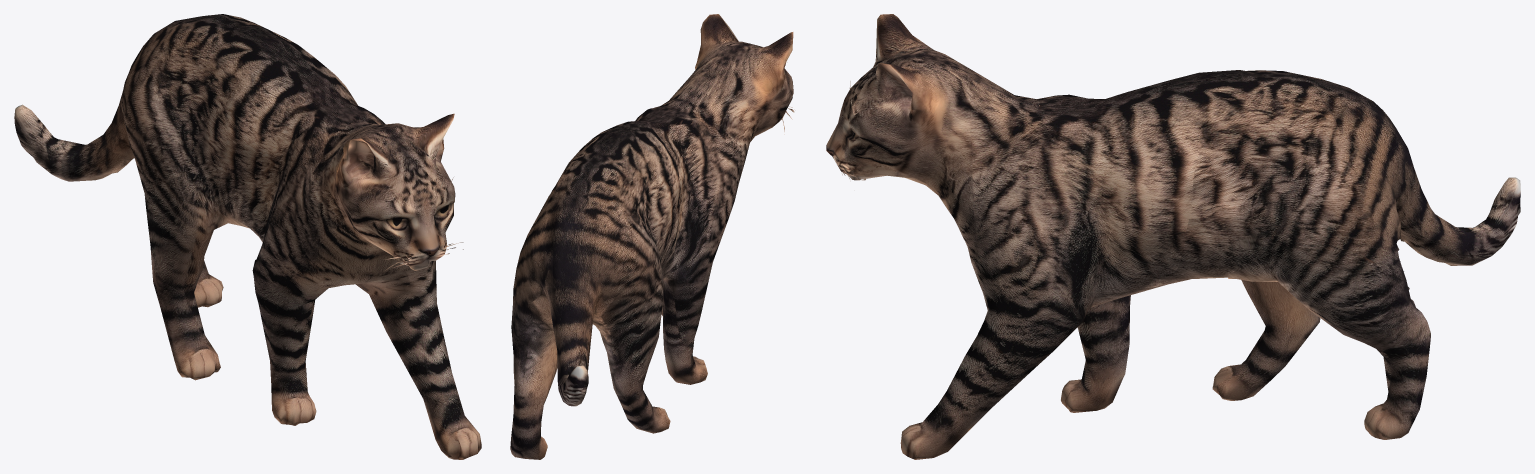
Rendered from wildlife_cat_lo.glb.
3 renders of one model, left to right at view 1: azimuth 30°, elevation 25°; view 2: azimuth 150°, elevation 25°; view 3: azimuth 270°, elevation 25°, orthographic. The views are drawn at different scales.
Bounding box in the file's own units: 0.2485 × 0.4496 × 0.7486.
1 material, 1 textured.
